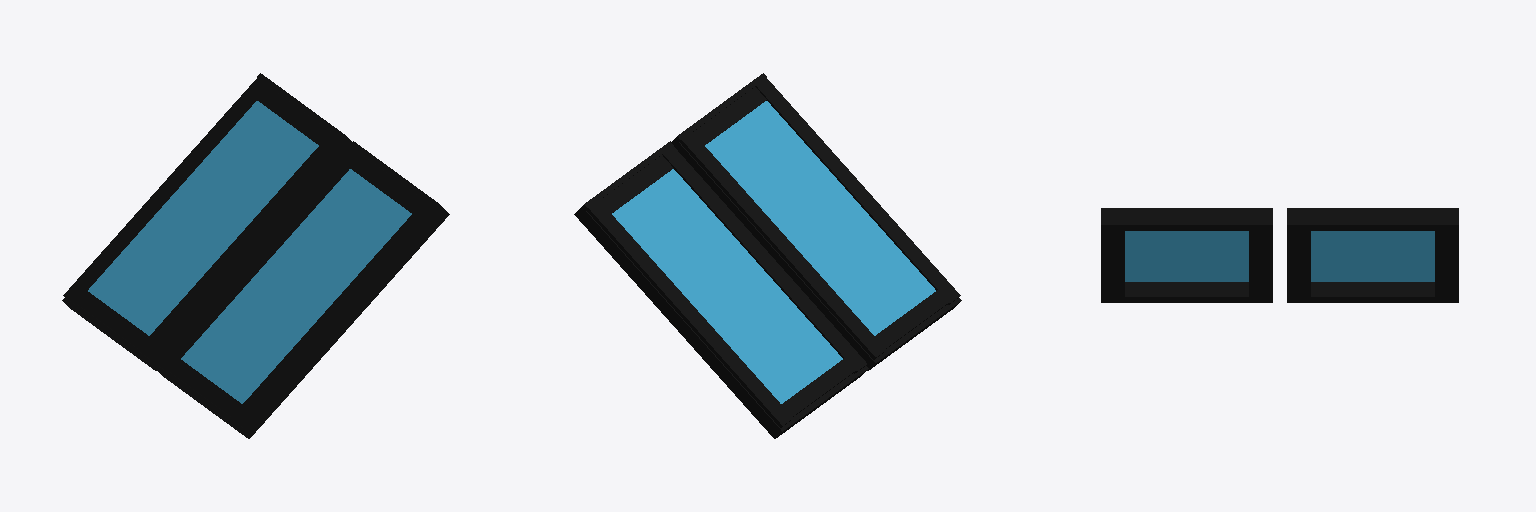
File: window_roof.obj
The picture shows the model from 3 angles: view 1: azimuth 30°, elevation 25°; view 2: azimuth 150°, elevation 25°; view 3: azimuth 270°, elevation 25°; orthographic projection.
Visible parts, largest first — view 1: window_roof; view 2: window_roof; view 3: window_roof.
Boxes of the visible parts, box(x1,y1,x2,y2) form: window_roof: box(62, 73, 449, 438); window_roof: box(574, 73, 961, 438); window_roof: box(1101, 208, 1458, 302).
Bounding box in the file's own units: 1.2 × 1.04 × 1.79.